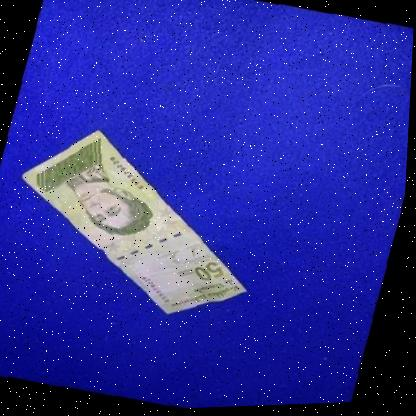vef_front: (0, 110, 288, 338)
